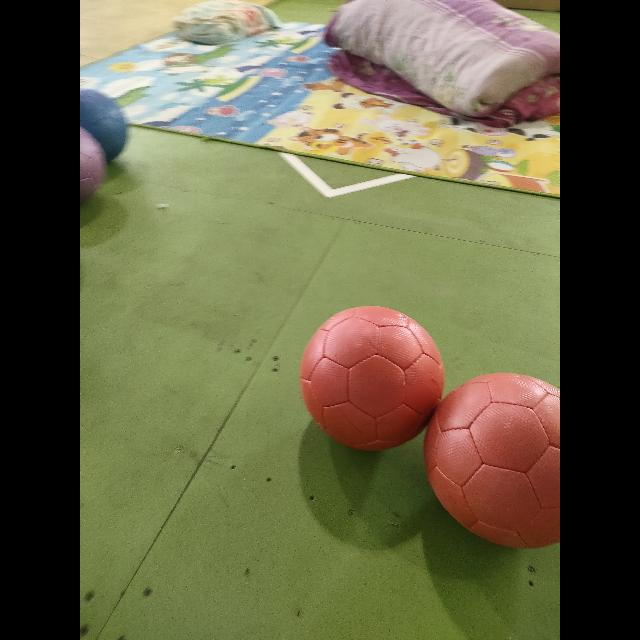B: (80, 88, 126, 162)
P: (80, 126, 106, 202)
R: (425, 373, 559, 549), (301, 306, 444, 449)
